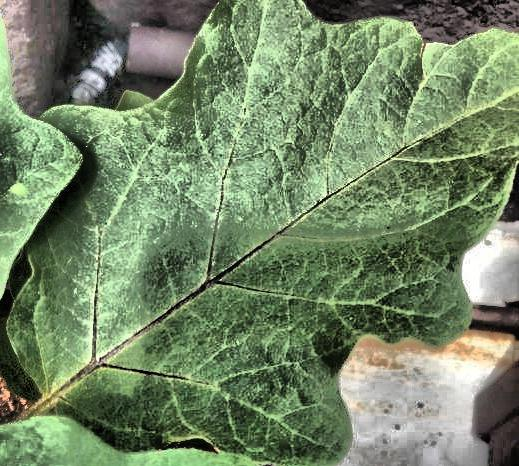HEALTHY: (1, 1, 519, 466)
